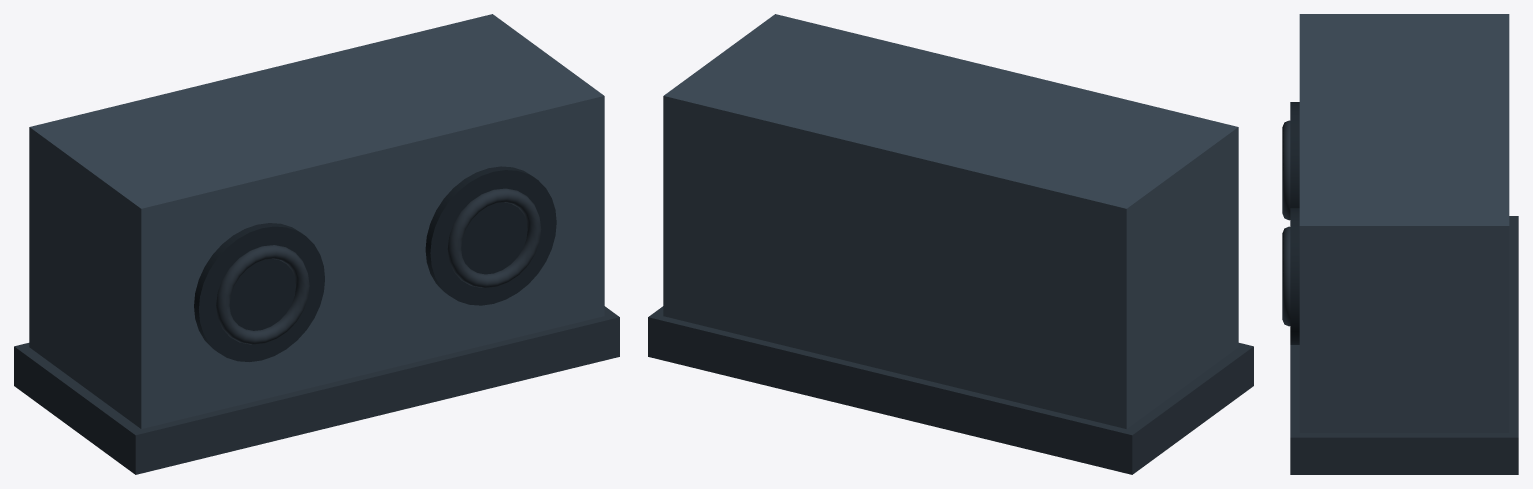
The model's file is ahu.glb.
3 renders of one model, left to right at view 1: azimuth 30°, elevation 25°; view 2: azimuth 150°, elevation 25°; view 3: azimuth 270°, elevation 25°, orthographic. The views are drawn at different scales.
Visible parts, largest first — view 1: merged-deviceMid, merged-deviceDark, merged-devicePanel; view 2: merged-deviceMid, merged-deviceDark; view 3: merged-deviceMid, merged-deviceDark, merged-devicePanel.
Part boxes in pixels (x1,y1,x2,y2): merged-deviceMid: (29, 14, 604, 428); merged-deviceDark: (14, 188, 619, 474); merged-devicePanel: (194, 166, 556, 361); merged-deviceMid: (663, 14, 1238, 428); merged-deviceDark: (648, 306, 1253, 474); merged-deviceMid: (1299, 14, 1509, 432); merged-deviceDark: (1282, 120, 1518, 474); merged-devicePanel: (1290, 102, 1299, 344).
Bounding box in the file's own units: 2.3 × 1.18 × 1.04.
